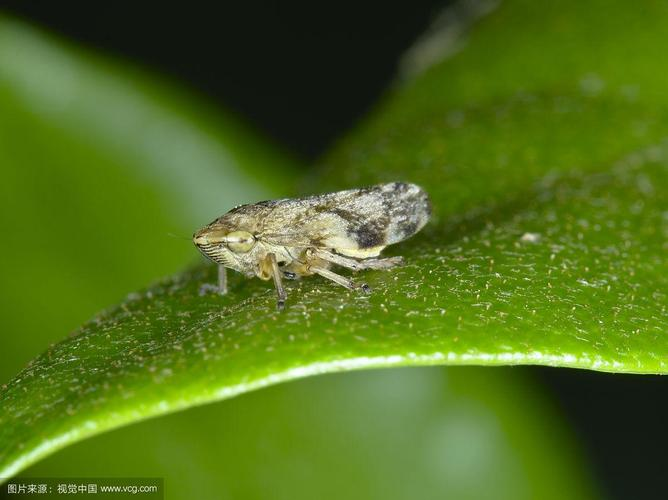Cicadellidae: (192, 180, 429, 306)
